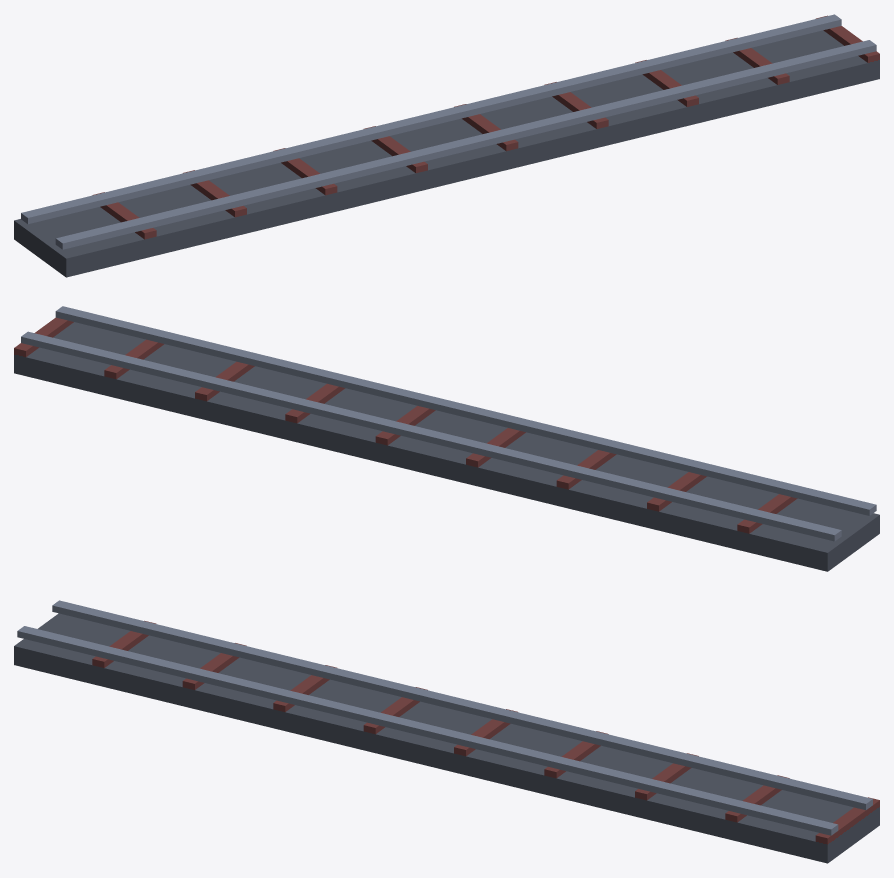
Rendered from lane_railroad_active.dae.
3 views of the same model, one above another, from view 1: azimuth 30°, elevation 25°; view 2: azimuth 150°, elevation 25°; view 3: azimuth 330°, elevation 25° (orthographic).
Visible parts, largest first — view 1: lane_railroad_active; view 2: lane_railroad_active; view 3: lane_railroad_active.
Part boxes in pixels (box(x1,y1,x2,y2)): lane_railroad_active: box(14, 14, 879, 277); lane_railroad_active: box(14, 306, 879, 571); lane_railroad_active: box(14, 600, 879, 863).
Size of the model in its own units: 13.5 by 0.5 by 1.5.
